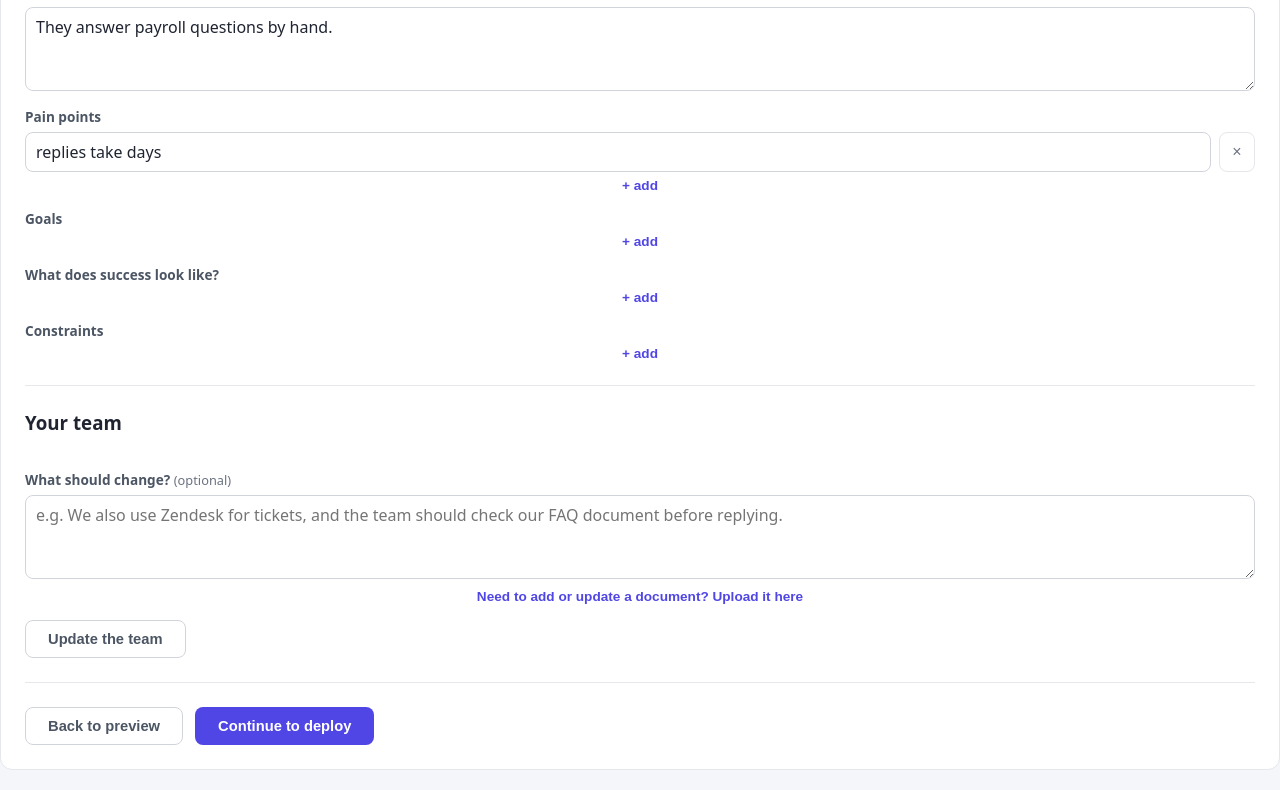
Test case: ConfirmPage while the update is in flight › asks the customer to wait instead of leaving them guessing
This screenshot has width=1280, height=790.
(page scrolled)
Click the button "Update the team" at (105, 639), box 25,620 -> 186,658
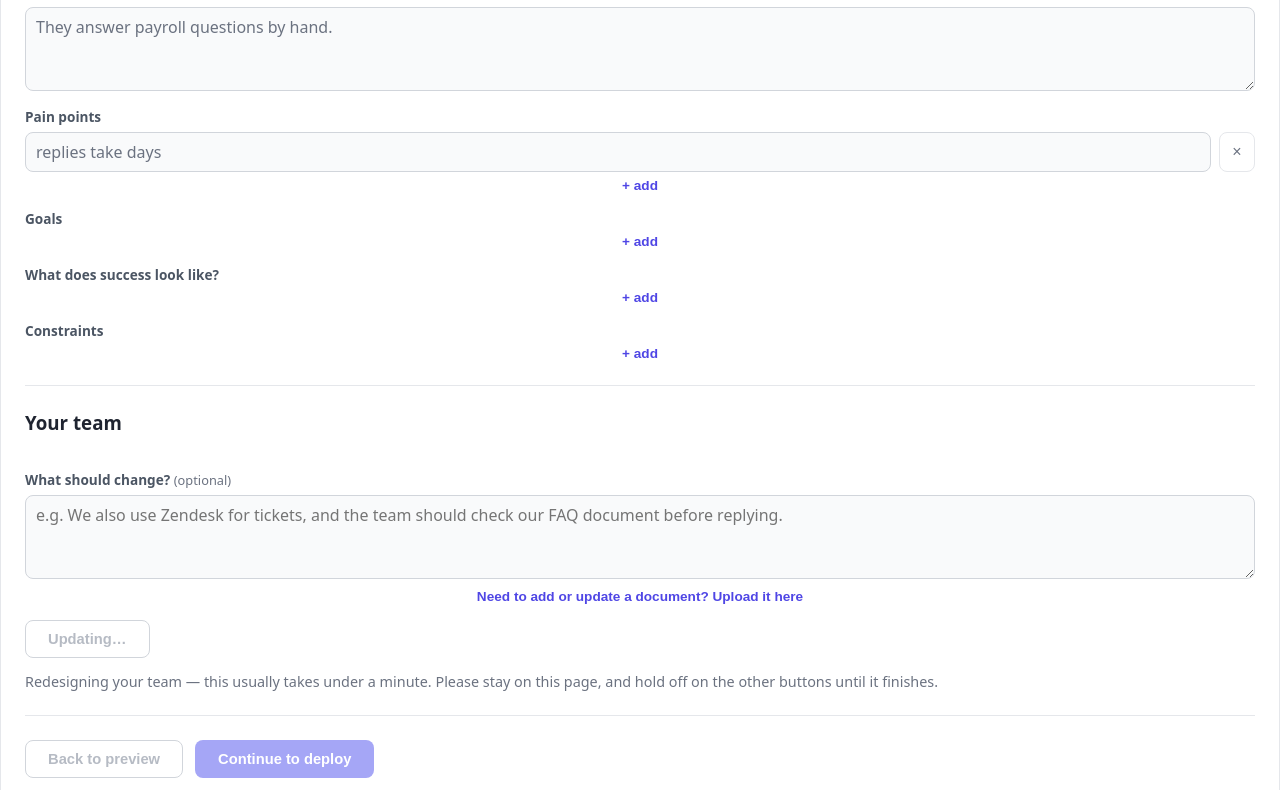
Expected: the text "stay on this page" is shown, 25,672 -> 938,691
